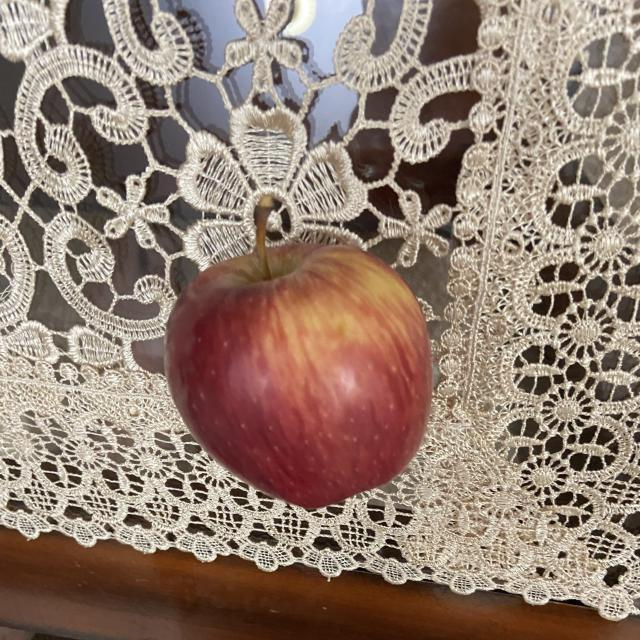apple: (161, 204, 436, 514)
